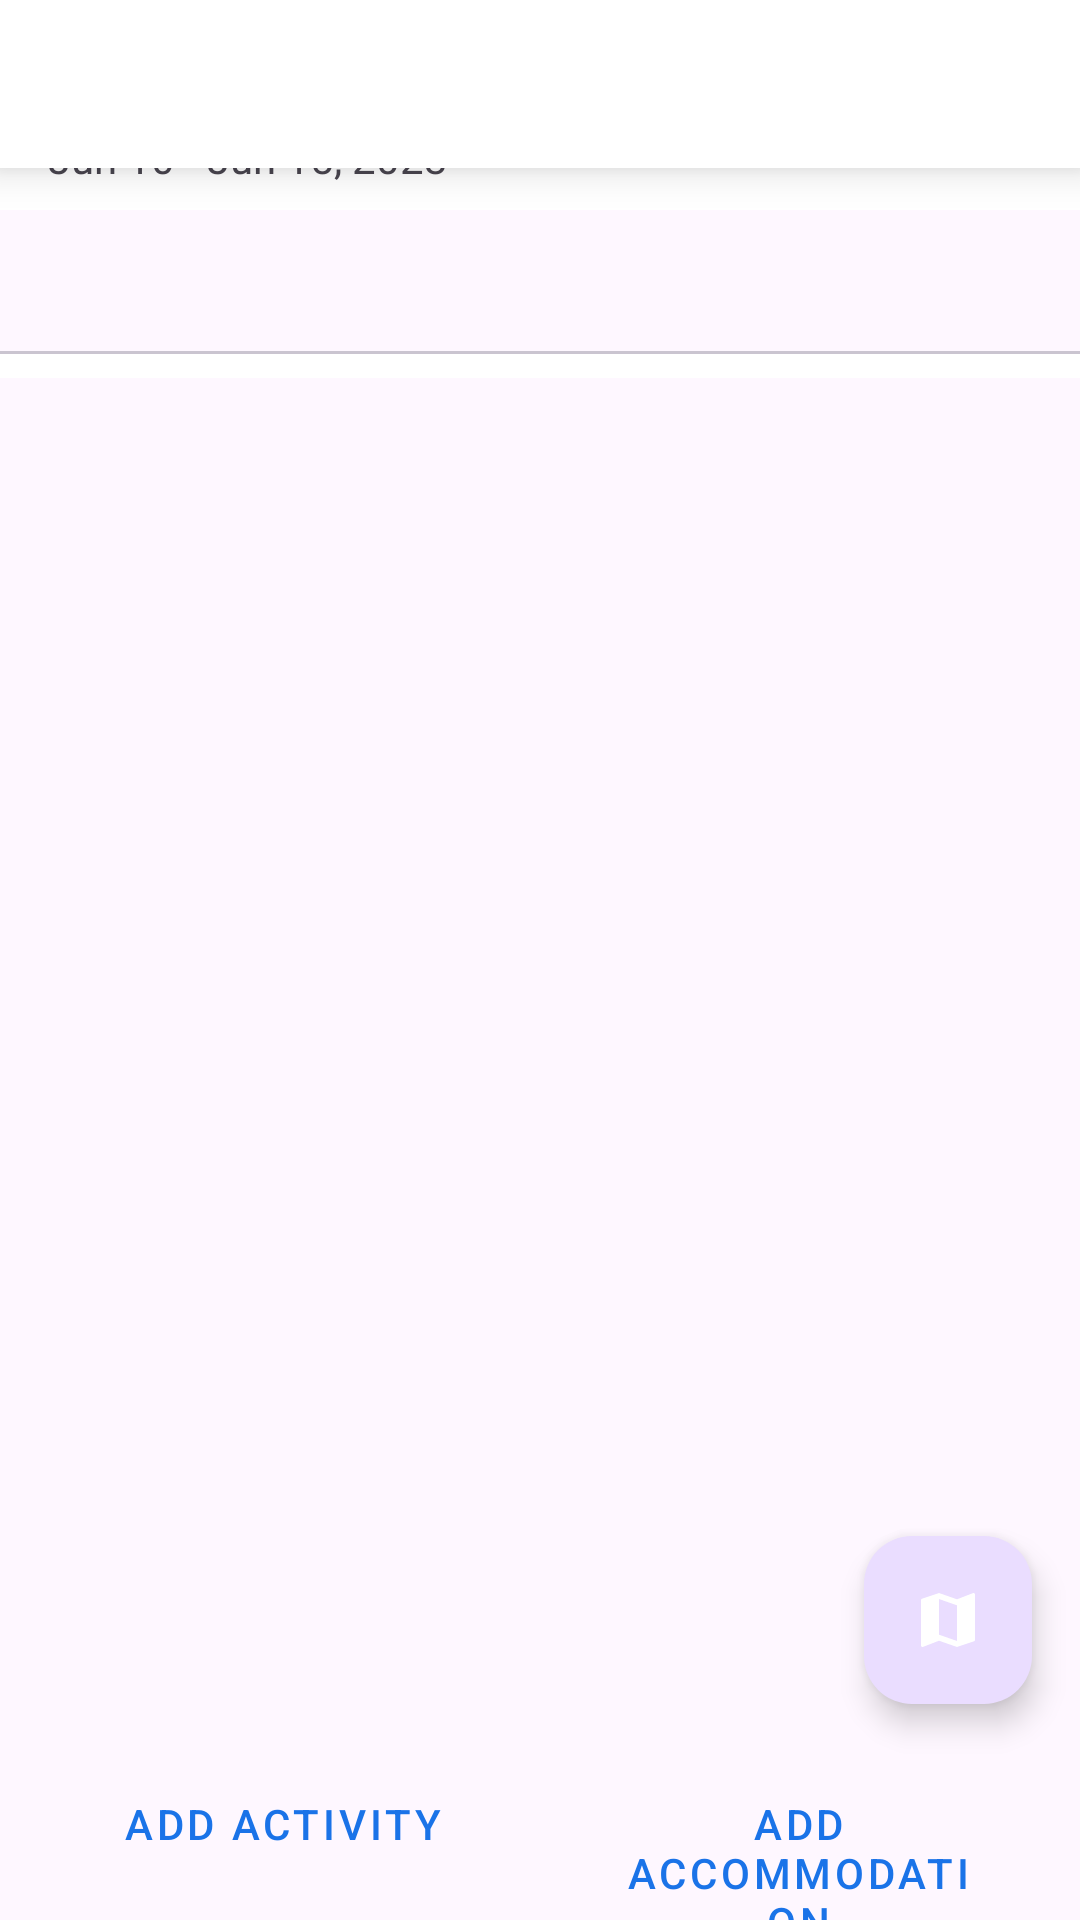

Icon bounding boxes for this 1080 x 1920 phone screenshot, format (x1, y1, x2, y2):
View Map: (864, 1536, 1032, 1704)
